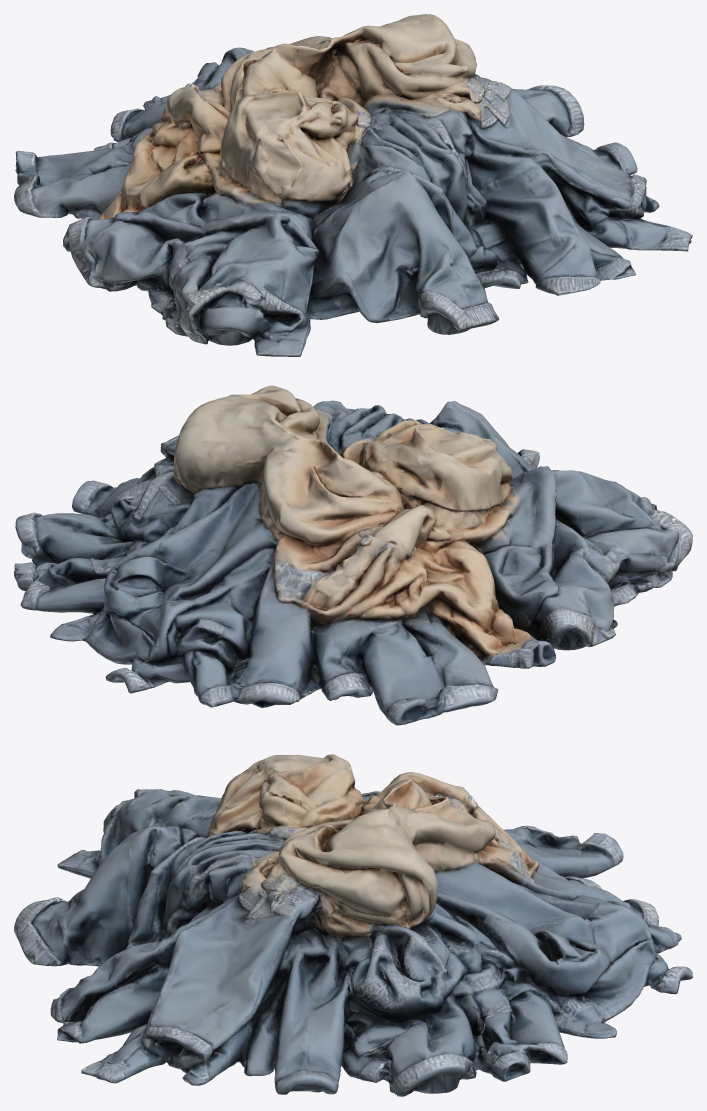
Rendered from Meshy_AI_the_object_is_a_pile__0829110202_texture.glb.
3 views of the same model, one above another, from view 1: azimuth 30°, elevation 25°; view 2: azimuth 150°, elevation 25°; view 3: azimuth 270°, elevation 25° (orthographic). The views are drawn at different scales.
Parts seen in each view (by area): view 1: Mesh_0; view 2: Mesh_0; view 3: Mesh_0.
Boxes of the visible parts, x1=… form: Mesh_0: x1=14, y1=14, x2=692, y2=356; Mesh_0: x1=14, y1=385, x2=692, y2=725; Mesh_0: x1=14, y1=754, x2=692, y2=1096.
Size of the model in its own units: 1.02 by 0.2993 by 1.06.
Materials: 1 (1 with a texture image).
